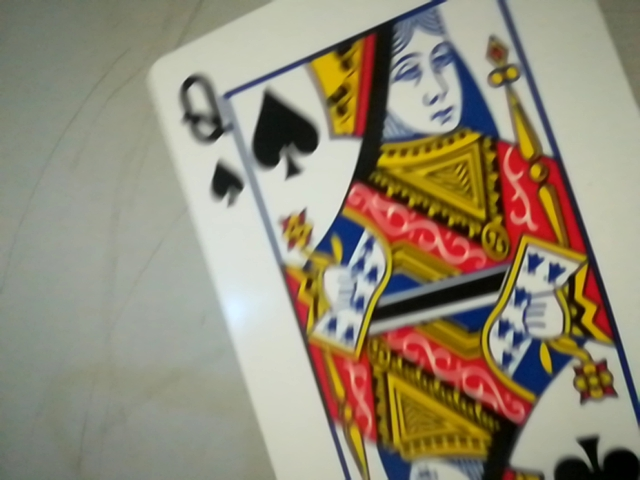ht q: (168, 61, 247, 214)
